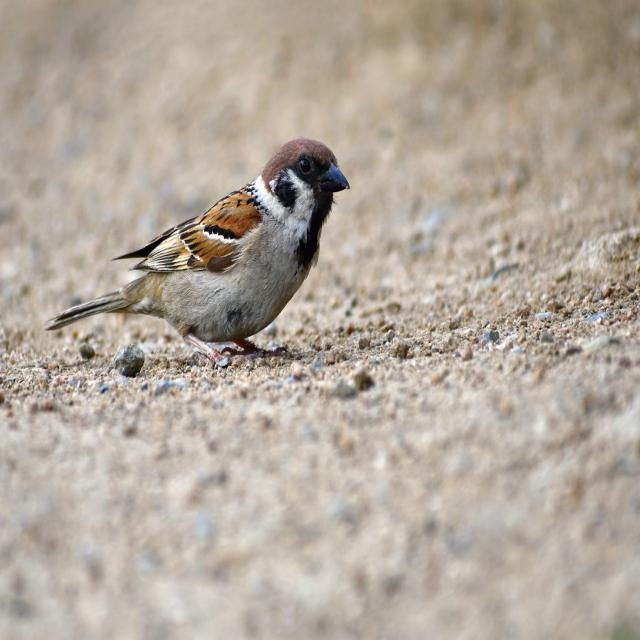bird: (36, 125, 354, 382)
